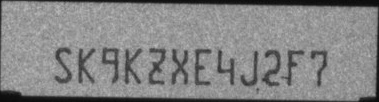2: (262, 48, 281, 86)
4: (216, 48, 235, 86)
7: (310, 50, 328, 86)
9: (100, 47, 119, 83)
E: (194, 47, 213, 86)
F: (285, 48, 304, 87)
J: (240, 47, 258, 85)
K: (122, 47, 141, 85), (77, 47, 96, 84)
S: (53, 46, 73, 83)
X: (170, 48, 189, 85)
Z: (148, 47, 167, 85)
